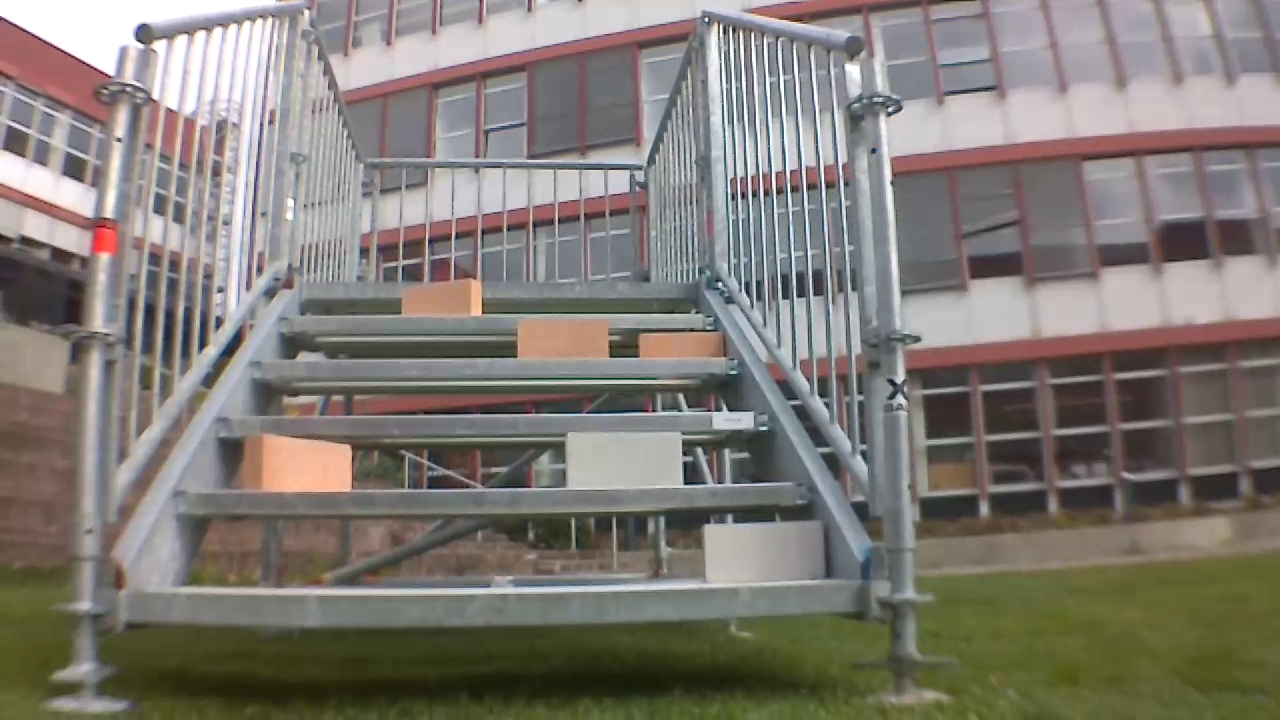brick: (702, 521, 824, 582), (567, 432, 681, 486), (244, 433, 350, 491), (516, 319, 607, 359), (401, 278, 481, 316), (639, 332, 721, 357)
edge: (128, 581, 859, 625), (178, 482, 808, 513), (209, 411, 773, 431), (250, 355, 741, 377), (282, 314, 718, 332), (302, 282, 698, 298)
stairs: (46, 3, 934, 711)
steps: (123, 274, 863, 632)
